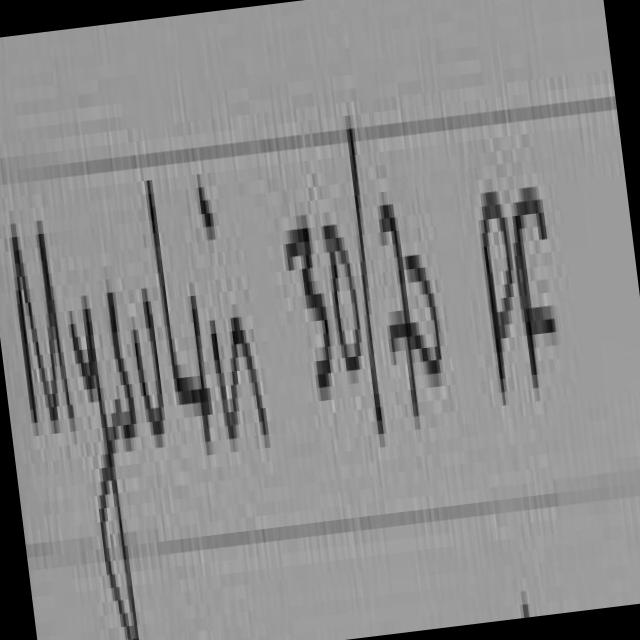0: (324, 224, 362, 370), (406, 254, 443, 374)
3: (286, 227, 331, 387)
7: (379, 204, 420, 416)
F: (515, 186, 557, 381)
M: (13, 236, 73, 433)
P: (484, 191, 514, 398)
i: (189, 281, 213, 443), (195, 170, 212, 230)
l: (142, 163, 194, 405)
n: (211, 316, 268, 438)
s: (108, 292, 135, 431)
u: (133, 288, 164, 434)
y: (71, 295, 139, 640)
